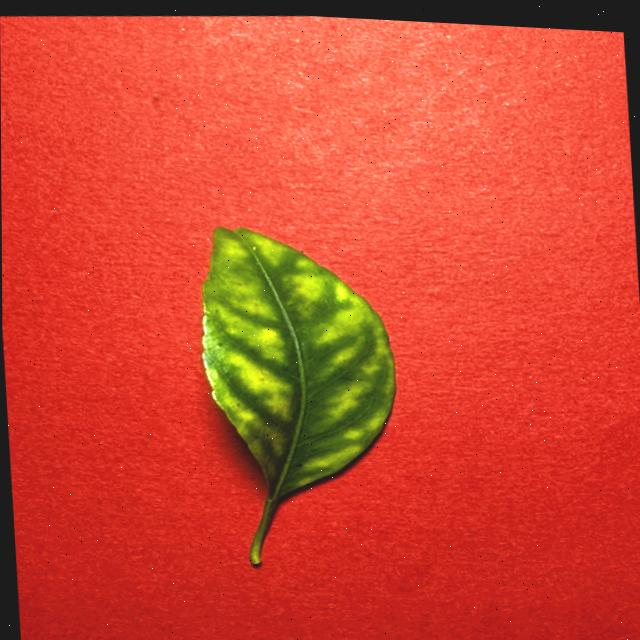greening: (202, 228, 396, 564)
